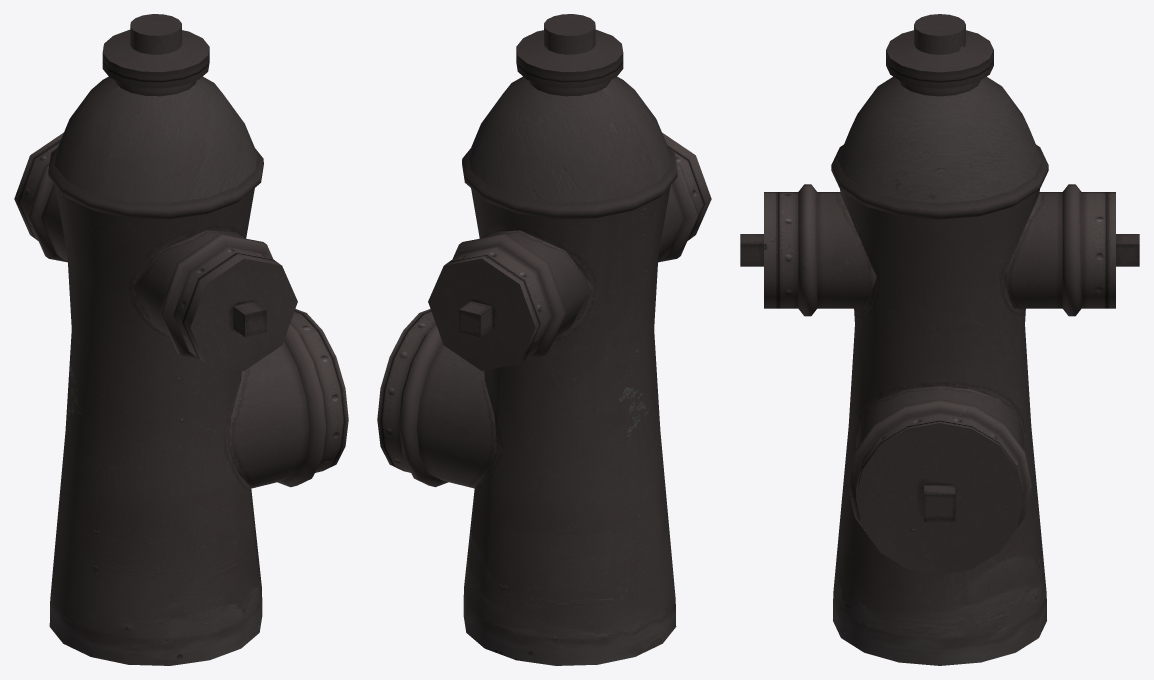
The model's file is hydrant.fbx.
3 views of the same model, side by side, from view 1: azimuth 30°, elevation 25°; view 2: azimuth 150°, elevation 25°; view 3: azimuth 270°, elevation 25° (orthographic).
Visible parts, largest first — view 1: steamsquad_hydrant; view 2: steamsquad_hydrant; view 3: steamsquad_hydrant.
Boxes of the visible parts, x1,y1,x2,y2 form: steamsquad_hydrant: (14, 14, 348, 665); steamsquad_hydrant: (377, 14, 711, 665); steamsquad_hydrant: (740, 14, 1139, 665).
Size of the model in its own units: 0.8504 by 1.84 by 1.12.
